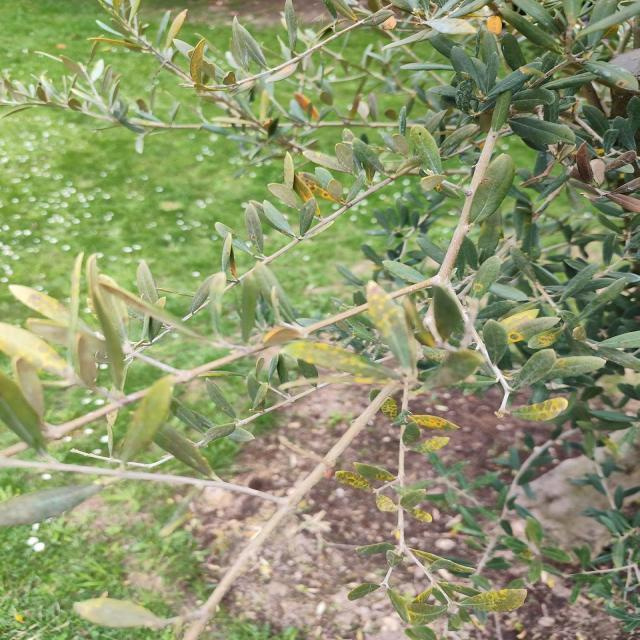OlivePeacockSpot: (285, 338, 396, 382), (458, 589, 527, 612), (506, 316, 561, 344), (203, 378, 238, 420), (505, 398, 568, 421), (471, 255, 500, 299), (582, 61, 636, 84), (299, 172, 336, 201), (404, 602, 447, 626), (528, 324, 565, 351), (246, 202, 264, 256), (408, 414, 458, 431), (335, 470, 372, 492), (438, 578, 478, 598), (353, 464, 394, 482), (410, 436, 449, 454)
